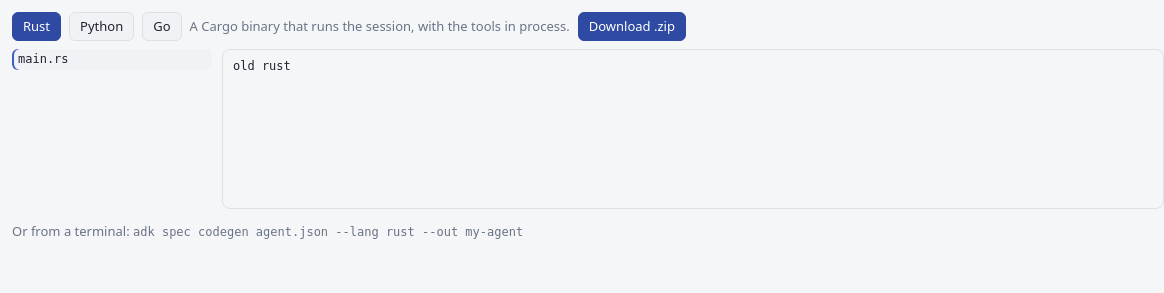
Test: document-owned results › disables downloads and removes old files when the document or language changes or generation fails
Expected: the button "Download .zip" is enabled, [578, 12, 686, 41]
Click the button "Python": x=102, y=26 [69, 12, 134, 41]
Wait 600 ms
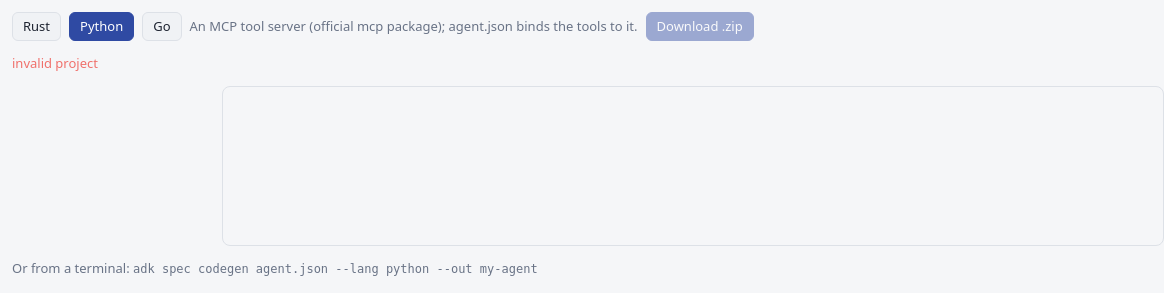
Expected: the text "old rust" is gone
Expected: the button "Download .zip" is disabled, [646, 12, 754, 41]
Expected: the text "invalid project" is shown, [12, 54, 98, 72]
